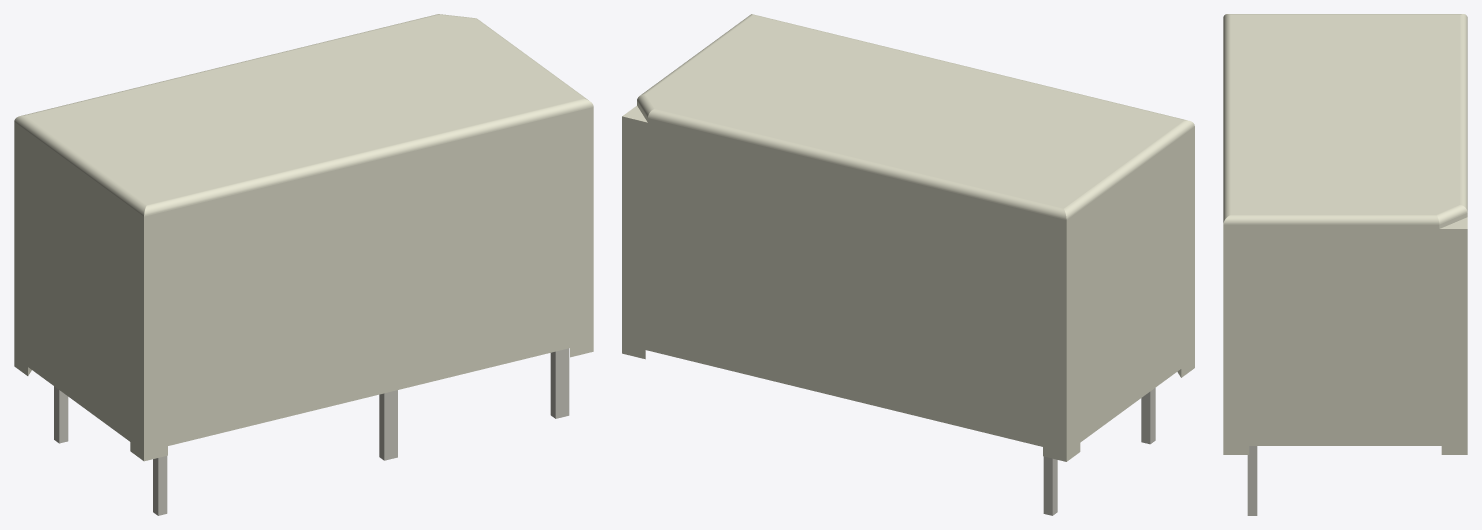
Rendered from kc-relay_spst_finder_32.21-x300.glb.
3 views of the same model, side by side, from view 1: azimuth 30°, elevation 25°; view 2: azimuth 150°, elevation 25°; view 3: azimuth 270°, elevation 25° (orthographic). The views are drawn at different scales.
Parts seen in each view (by area): view 1: 0.75_0.75_0.6666666666666666_0, 0.6666666666666666_0.6666666666666666_0.5833333333333334_0.8; view 2: 0.75_0.75_0.6666666666666666_0, 0.6666666666666666_0.6666666666666666_0.5833333333333334_0.8; view 3: 0.75_0.75_0.6666666666666666_0, 0.6666666666666666_0.6666666666666666_0.5833333333333334_0.8.
Part boxes in pixels (left/top/right/bottom): 0.75_0.75_0.6666666666666666_0: left=14, top=14, right=593, bottom=461; 0.6666666666666666_0.6666666666666666_0.5833333333333334_0.8: left=54, top=348, right=569, bottom=515; 0.75_0.75_0.6666666666666666_0: left=622, top=14, right=1194, bottom=461; 0.6666666666666666_0.6666666666666666_0.5833333333333334_0.8: left=1043, top=388, right=1155, bottom=515; 0.75_0.75_0.6666666666666666_0: left=1223, top=14, right=1467, bottom=454; 0.6666666666666666_0.6666666666666666_0.5833333333333334_0.8: left=1247, top=446, right=1257, bottom=515.
Size of the model in its own units: 2 by 1.37 by 1.
